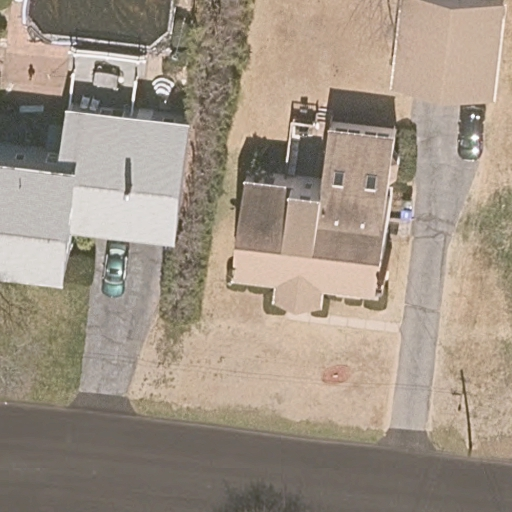DT: (459, 369, 474, 453)
